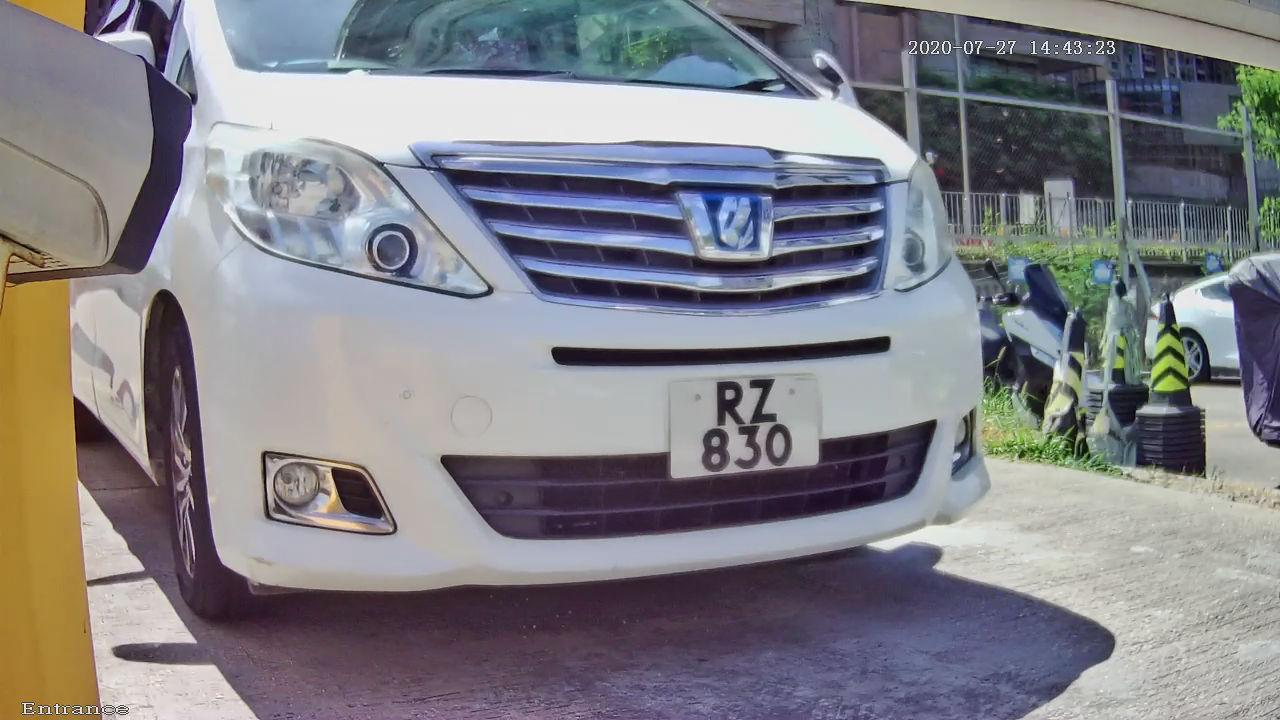privatecar: (58, 13, 1092, 653)
